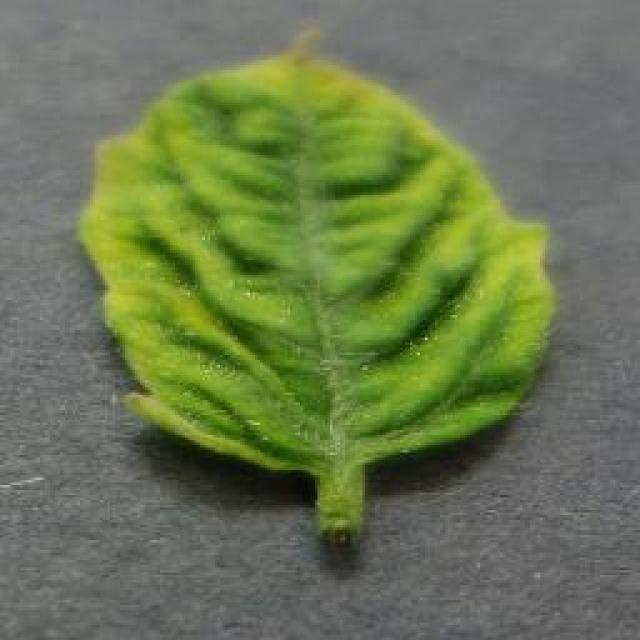Tomato yellow virus leaf: (84, 25, 558, 475)
